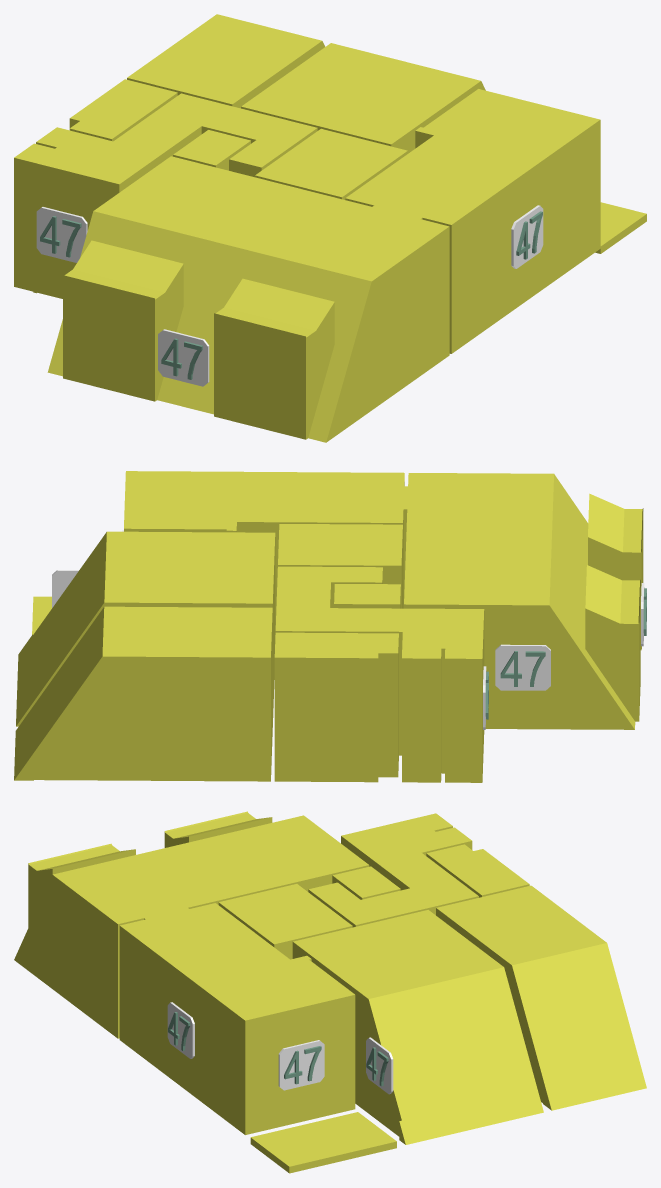
The picture shows the model from 3 angles, top to bottom: view 1: azimuth 30°, elevation 25°; view 2: azimuth 150°, elevation 25°; view 3: azimuth 270°, elevation 25°; orthographic projection. The views are drawn at different scales.
Parts seen in each view (by area): view 1: g_0, g_1, g_5, g_2, g_3, g_4, g_7, g_17, g_20, g_6, g_8, g_23; view 2: g_0, g_3, g_5, g_2, g_7, g_1, g_4, g_26, g_6, g_14, g_8; view 3: g_1, g_2, g_0, g_3, g_5, g_8, g_4, g_7, g_11, g_6, g_14, g_23.
Boxes of the visible parts, box(x1,y1,x2,y2) form: g_0: box(47, 156, 449, 442); g_1: box(345, 89, 600, 353); g_5: box(14, 93, 317, 298); g_2: box(241, 43, 485, 153); g_3: box(127, 14, 325, 108); g_4: box(255, 128, 407, 199); g_7: box(69, 79, 177, 141); g_17: box(158, 329, 209, 386); g_20: box(36, 207, 87, 262); g_6: box(173, 130, 250, 170); g_8: box(595, 202, 646, 253); g_23: box(511, 205, 543, 268); g_0: box(404, 473, 643, 729); g_3: box(14, 606, 272, 781); g_5: box(275, 566, 484, 782); g_2: box(16, 531, 275, 727); g_7: box(274, 632, 398, 782); g_1: box(124, 471, 406, 634); g_4: box(278, 524, 402, 608); g_26: box(495, 644, 550, 690); g_6: box(334, 584, 400, 608); g_14: box(52, 570, 78, 607); g_8: box(32, 596, 51, 634); g_1: box(119, 903, 355, 1134); g_2: box(292, 910, 543, 1144); g_0: box(14, 811, 369, 1038); g_3: box(436, 885, 646, 1110); g_5: box(308, 813, 478, 927); g_8: box(250, 1112, 396, 1173); g_4: box(218, 884, 352, 959); g_7: box(426, 844, 529, 897); g_11: box(278, 1040, 324, 1090); g_6: box(332, 866, 400, 899); g_14: box(366, 1037, 393, 1094); g_23: box(167, 1002, 194, 1058).
Bounding box in the file's own units: 12.64 × 2.71 × 12.75.
